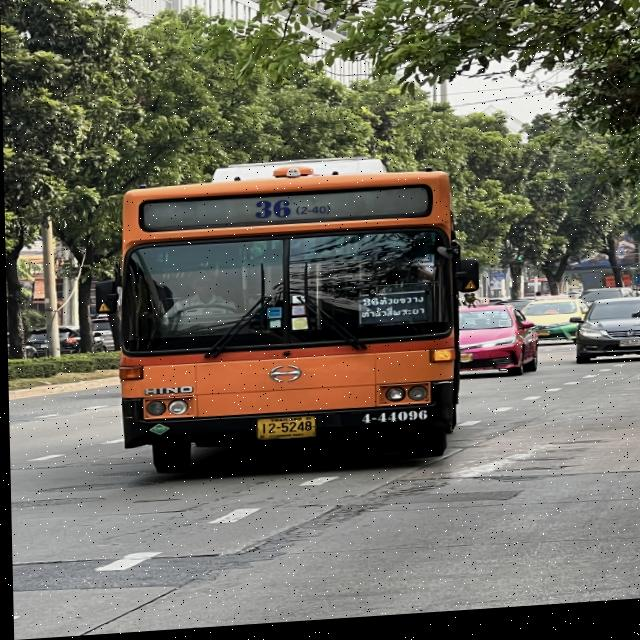BMTA-bus: (86, 146, 487, 493)
Bus-Line-Number: (247, 196, 338, 226)
Destination-Sign-Normal: (356, 295, 429, 332)
